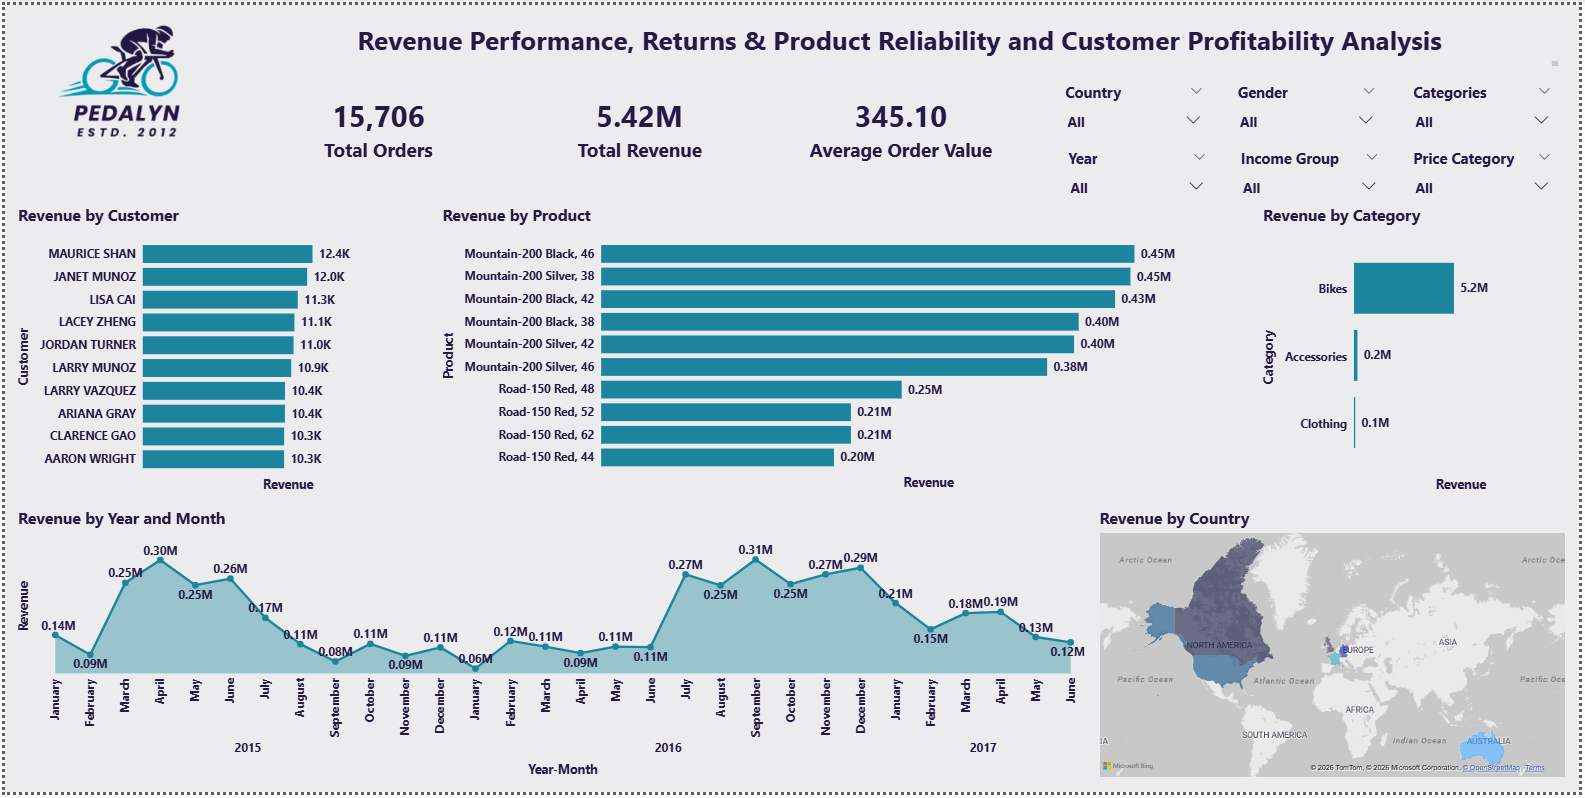

This screenshot's page, from the dashboard's own definition file:
{"tool":"powerbi","page":{"name":"Revenue Performance","canvas":[2000,1000],"ordinal":0},"visuals":[{"type":"cardVisual","fields":{"Data":["sales_combined.Orders","sales_combined.Total Revenue","sales_combined.Average Order Value"]},"box":[295.7,94.6,1022,123],"z":0},{"type":"clusteredBarChart","fields":{"Category":["product_categories.CategoryName"],"Y":["sales_combined.Revenue"]},"box":[1593.8,254.1,397.2,370.1],"z":1000},{"type":"lineChart","fields":{"Y":["sales_combined.Total Revenue"],"Category":["calendar.Date.Variation.Date Hierarchy.Year","calendar.Date.Variation.Date Hierarchy.Month"]},"box":[11.8,638.8,1365.2,347.8],"z":2000},{"type":"clusteredBarChart","fields":{"Category":["customers.FullName"],"Y":["sales_combined.Revenue"]},"box":[12.3,254.1,537.8,370.1],"z":3000},{"type":"filledMap","fields":{"Category":["territories.Country"]},"box":[1386.4,638.8,601,347.8],"z":4000},{"type":"image","box":[11.9,0,282.9,190.2],"z":5000},{"type":"clusteredBarChart","fields":{"Category":["products.ProductName"],"Y":["sales_combined.Revenue"]},"box":[550.2,254.1,1043.6,367.6],"z":6000},{"type":"slicer","fields":{"Values":["territories.Country"]},"box":[1334.7,93.8,199.8,76.5],"z":7000},{"type":"slicer","fields":{"Values":["customers.Gender"]},"box":[1554.3,93.8,199.8,76.5],"z":8000},{"type":"slicer","fields":{"Values":["product_categories.CategoryName"]},"box":[1776.3,93.8,199.8,76.5],"z":9000},{"type":"slicer","fields":{"Values":["calendar.Year"]},"box":[1337.2,177.6,199.8,76.5],"z":10000},{"type":"slicer","fields":{"Values":["customers.Income Group"]},"box":[1556.8,177.6,199.8,76.5],"z":11000},{"type":"slicer","fields":{"Values":["products.Price Category"]},"box":[1776.3,177.6,199.8,76.5],"z":12000},{"type":"textbox","title":"Revenue Performance, Returns & Product Reliability and Customer Profitability Analysis","box":[294.7,21.4,1682.9,61.8],"z":13000}]}

Visuals, with their boxes in screenshot pixels (x1, y1, x2, y2), scaled from the page's 2000x1000 canvas onto the 1585x798 screenshot:
cardVisual - sales_combined.Orders x sales_combined.Total Revenue: (234,75,1044,174)
clusteredBarChart - product_categories.CategoryName x sales_combined.Revenue: (1263,203,1578,498)
lineChart - sales_combined.Total Revenue x calendar.Date.Variation.Date Hierarchy.Year: (9,510,1091,787)
clusteredBarChart - customers.FullName x sales_combined.Revenue: (10,203,436,498)
filledMap - territories.Country: (1099,510,1575,787)
image: (9,0,234,152)
clusteredBarChart - products.ProductName x sales_combined.Revenue: (436,203,1263,496)
slicer - territories.Country: (1058,75,1216,136)
slicer - customers.Gender: (1232,75,1390,136)
slicer - product_categories.CategoryName: (1408,75,1566,136)
slicer - calendar.Year: (1060,142,1218,203)
slicer - customers.Income Group: (1234,142,1392,203)
slicer - products.Price Category: (1408,142,1566,203)
"Revenue Performance, Returns & Product Reliability and Customer Profitability Analysis" textbox: (234,17,1567,66)
